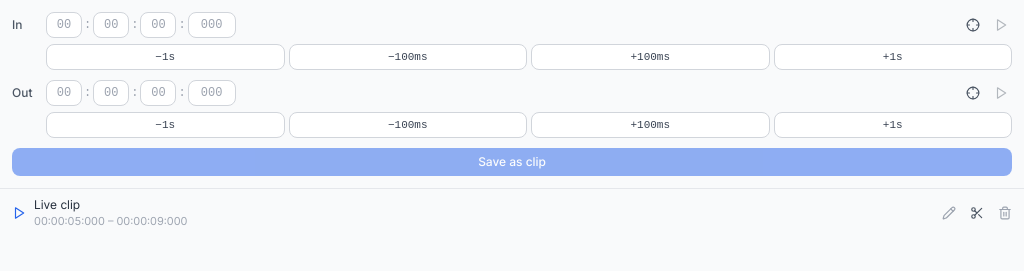
ClipEditor, deleting a clip › shows why a delete failed and keeps the row
The width and height of the screenshot is (1024, 271).
Click the button named "Delete this clip" at [1005, 213], box x1=998 y1=206 x2=1012 y2=220
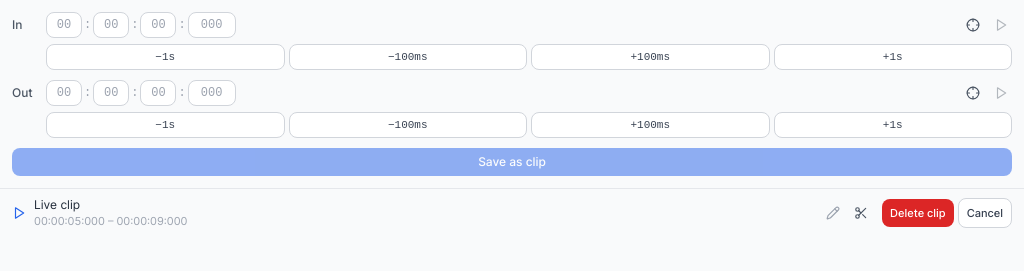
Click the button "Delete clip" at [918, 213], box x1=882 y1=199 x2=954 y2=227
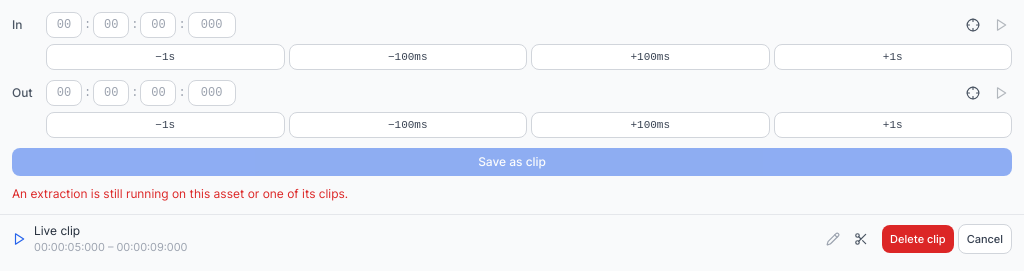
Expected: the link "Live clip" is shown, x1=34 y1=223 x2=80 y2=238
Expected: the text "An extraction is still running" is shown, x1=12 y1=186 x2=348 y2=201
